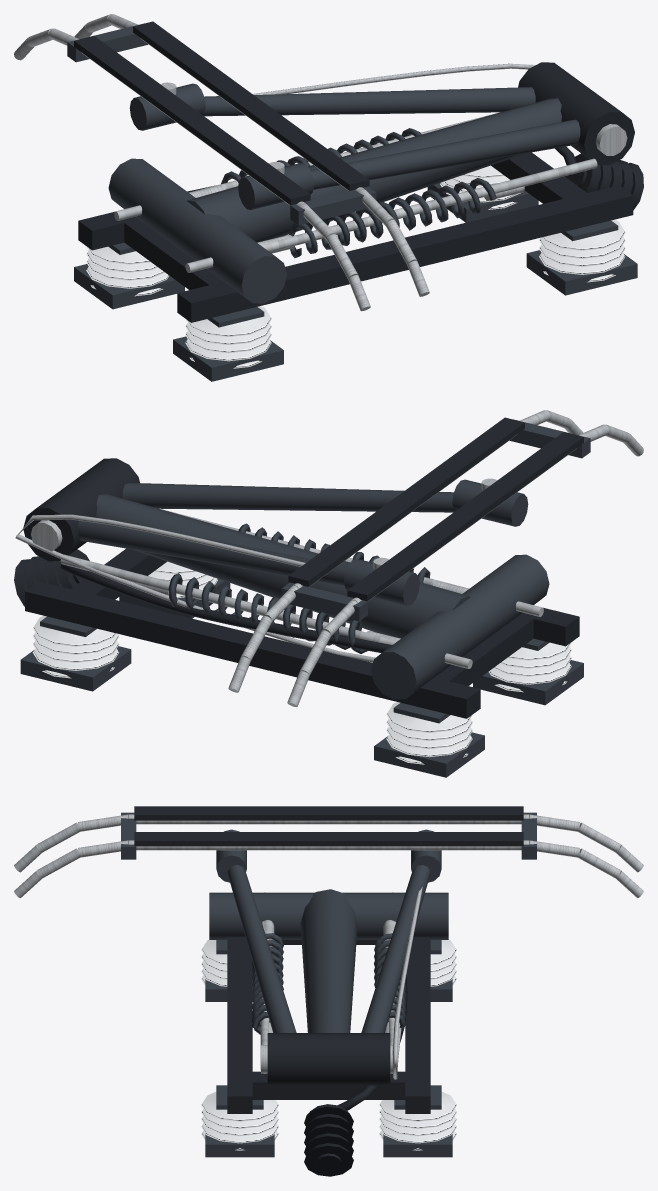
The model's file is pantograph.glb.
The picture shows the model from 3 angles, top to bottom: view 1: azimuth 30°, elevation 25°; view 2: azimuth 150°, elevation 25°; view 3: azimuth 270°, elevation 25°; orthographic projection. The views are drawn at different scales.
Visible parts, largest first — view 1: pantograph-base (×2), pantograph-upper-arm (×2), pantograph-contact-strip (×2), pantograph-ribbed-insulator (×4), pantograph-base-axle, pantograph-lower-arm, pantograph-mount-shoe (×4), pantograph-base-crossmember (×2), pantograph-tension-spring (×2), pantograph-elbow-pivot, pantograph-tie-rod (×2), pantograph-head-pivot (×2) (+5 smaller); view 2: pantograph-base (×2), pantograph-contact-strip (×2), pantograph-upper-arm (×2), pantograph-ribbed-insulator (×4), pantograph-base-axle, pantograph-lower-arm, pantograph-mount-shoe (×4), pantograph-base-crossmember (×2), pantograph-elbow-pivot, pantograph-tension-spring (×2), pantograph-tie-rod (×2), pantograph-bonding-lead (+6 smaller); view 3: pantograph-contact-strip (×2), pantograph-base (×2), pantograph-ribbed-insulator (×4), pantograph-lower-arm, pantograph-upper-arm (×2), pantograph-base-axle, pantograph-elbow-pivot, pantograph-head-support (×4), pantograph-base-crossmember, pantograph-mount-shoe (×2), pantograph-tension-spring (×2), pantograph-head-pivot (×2) (+3 smaller).
Part boxes in pixels (x1,y1,x2,y2): pantograph-base (×2): [78, 185, 633, 322]; pantograph-upper-arm (×2): [201, 87, 580, 189]; pantograph-contact-strip (×2): [74, 21, 369, 205]; pantograph-ribbed-insulator (×4): [86, 165, 625, 368]; pantograph-base-axle: [108, 158, 286, 303]; pantograph-lower-arm: [187, 98, 561, 242]; pantograph-mount-shoe (×4): [74, 182, 637, 381]; pantograph-base-crossmember (×2): [111, 152, 601, 313]; pantograph-tension-spring (×2): [221, 128, 496, 258]; pantograph-elbow-pivot: [518, 62, 634, 165]; pantograph-tie-rod (×2): [114, 112, 597, 272]; pantograph-head-pivot (×2): [129, 83, 313, 209]; pantograph-base (×2): [25, 581, 579, 718]; pantograph-contact-strip (×2): [288, 417, 583, 601]; pantograph-upper-arm (×2): [77, 483, 456, 585]; pantograph-ribbed-insulator (×4): [32, 561, 571, 764]; pantograph-base-axle: [371, 554, 549, 699]; pantograph-lower-arm: [96, 494, 470, 638]; pantograph-mount-shoe (×4): [20, 578, 583, 777]; pantograph-base-crossmember (×2): [57, 548, 533, 710]; pantograph-elbow-pivot: [23, 458, 139, 561]; pantograph-tension-spring (×2): [168, 523, 430, 653]; pantograph-tie-rod (×2): [60, 508, 543, 668]; pantograph-bonding-lead: [15, 514, 375, 662]; pantograph-contact-strip (×2): [134, 806, 523, 846]; pantograph-base (×2): [227, 937, 430, 1113]; pantograph-ribbed-insulator (×4): [201, 939, 456, 1150]; pantograph-lower-arm: [300, 889, 357, 1032]; pantograph-upper-arm (×2): [227, 865, 430, 1032]; pantograph-base-axle: [209, 892, 448, 939]; pantograph-elbow-pivot: [267, 1033, 390, 1085]; pantograph-head-support (×4): [128, 814, 529, 850]; pantograph-base-crossmember: [227, 1071, 430, 1099]; pantograph-mount-shoe (×2): [205, 1134, 452, 1157]; pantograph-tension-spring (×2): [251, 933, 406, 1034]; pantograph-head-pivot (×2): [216, 829, 441, 882].
Size of the model in its own units: 1.88 by 0.72 by 2.27.
4 materials, 1 textured.
